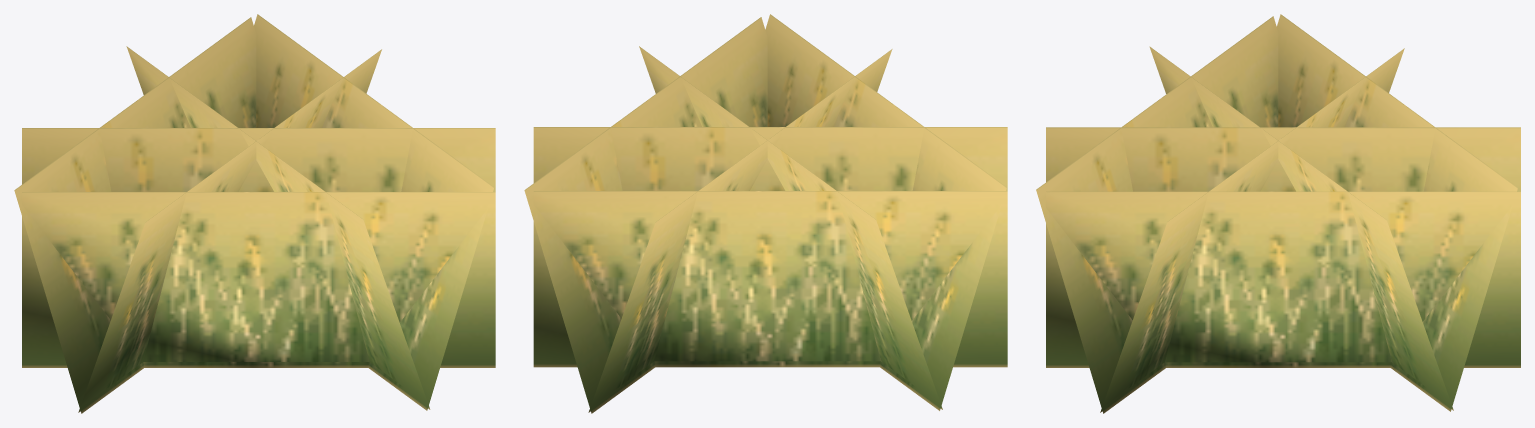
The model's file is grass-02.glb.
3 renders of one model, left to right at view 1: azimuth 30°, elevation 25°; view 2: azimuth 150°, elevation 25°; view 3: azimuth 270°, elevation 25°, orthographic.
Parts seen in each view (by area): view 1: grass_la_tall_a; view 2: grass_la_tall_a; view 3: grass_la_tall_a.
Part boxes in pixels (bbox=[...]): grass_la_tall_a: bbox=[14, 14, 495, 413]; grass_la_tall_a: bbox=[524, 14, 1007, 413]; grass_la_tall_a: bbox=[1036, 14, 1520, 413].
Bounding box in the file's own units: 6.92 × 3.22 × 6.82.
1 material, 1 textured.
